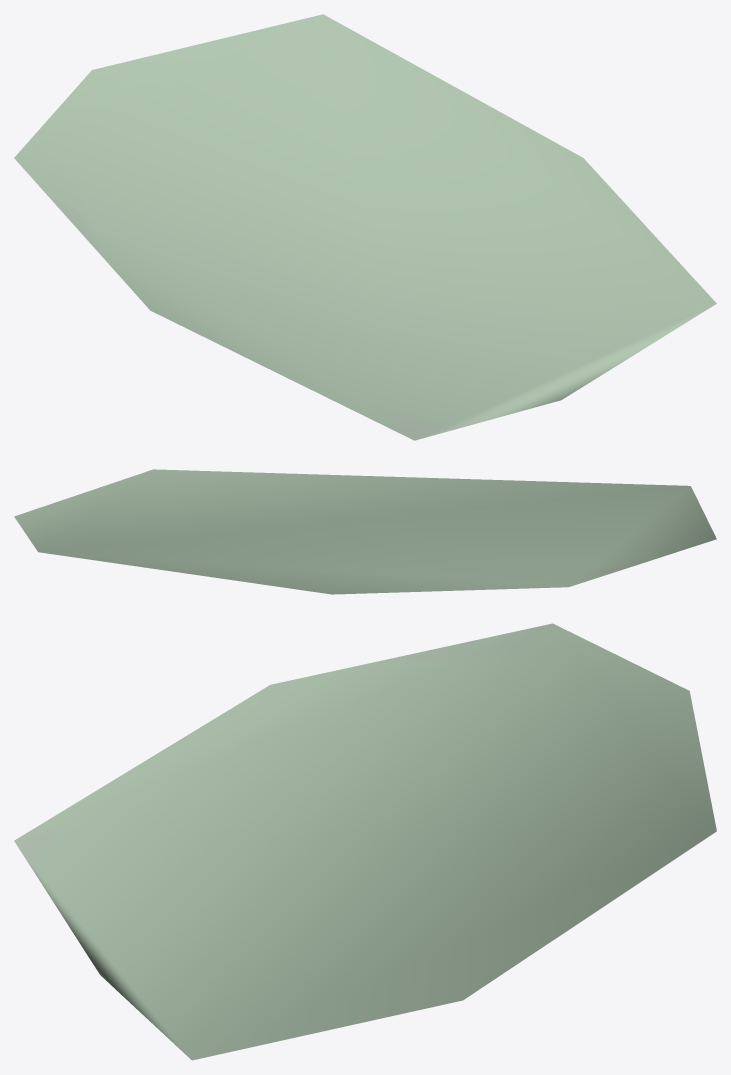
File: TROLLHOLE02_HOLECAP208.fbx
The picture shows the model from 3 angles, top to bottom: view 1: azimuth 30°, elevation 25°; view 2: azimuth 150°, elevation 25°; view 3: azimuth 270°, elevation 25°; orthographic projection. The views are drawn at different scales.
Visible parts, largest first — view 1: TROLLHOLE02_HOLECAP208; view 2: TROLLHOLE02_HOLECAP208; view 3: TROLLHOLE02_HOLECAP208.
Boxes of the visible parts, left/top/right/bottom form: TROLLHOLE02_HOLECAP208: left=14, top=14, right=716, bottom=440; TROLLHOLE02_HOLECAP208: left=14, top=469, right=716, bottom=594; TROLLHOLE02_HOLECAP208: left=14, top=623, right=716, bottom=1060.
Bounding box in the file's own units: 8472 × 2639 × 9109.
Materials: 1 (1 with a texture image).
